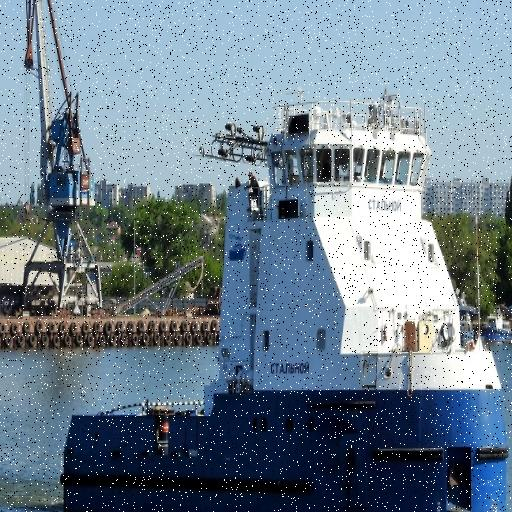tugboat: (60, 83, 512, 512)
